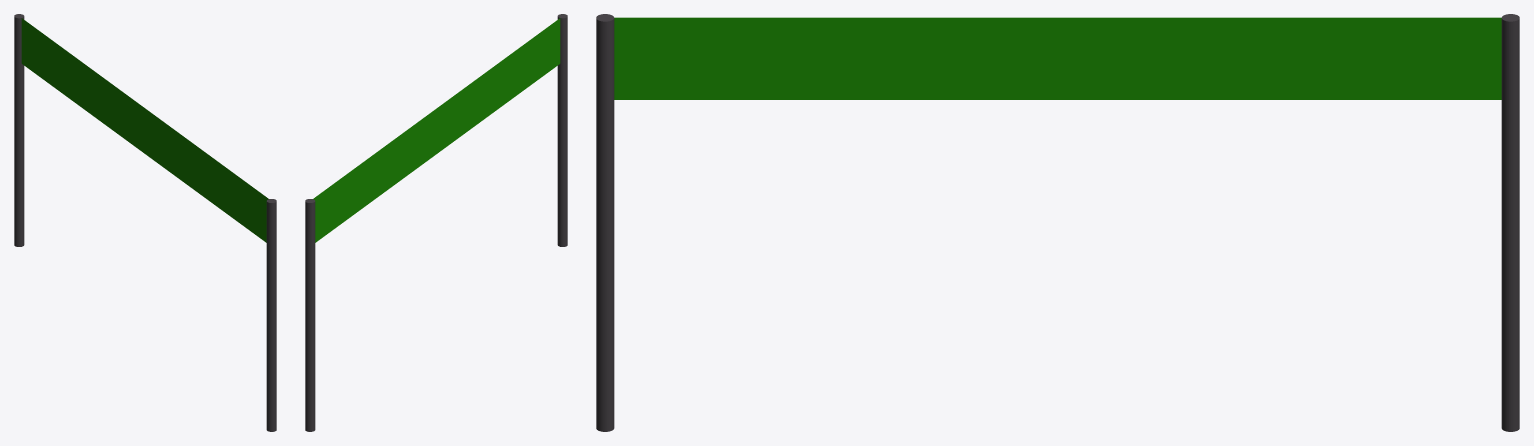
File: checkpoint.glb
3 views of the same model, side by side, from view 1: azimuth 30°, elevation 25°; view 2: azimuth 150°, elevation 25°; view 3: azimuth 270°, elevation 25° (orthographic). The views are drawn at different scales.
Visible parts, largest first — view 1: Plane, Cylinder, Cylinder.001; view 2: Plane, Cylinder.001, Cylinder; view 3: Plane, Cylinder, Cylinder.001.
Boxes of the visible parts, <box> form: Plane: <box>21,18,268,242</box>; Cylinder: <box>266,199,276,431</box>; Cylinder.001: <box>14,14,24,246</box>; Plane: <box>313,18,560,242</box>; Cylinder.001: <box>305,199,315,431</box>; Cylinder: <box>557,14,567,246</box>; Plane: <box>614,17,1501,99</box>; Cylinder: <box>596,14,614,431</box>; Cylinder.001: <box>1501,14,1519,431</box>.
Bounding box in the file's own units: 0.4 × 10 × 20.4.
